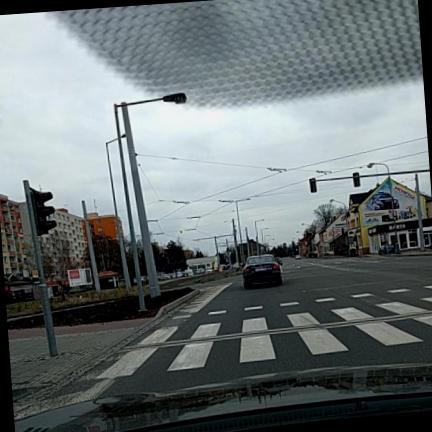Road: (93, 256, 431, 396)
